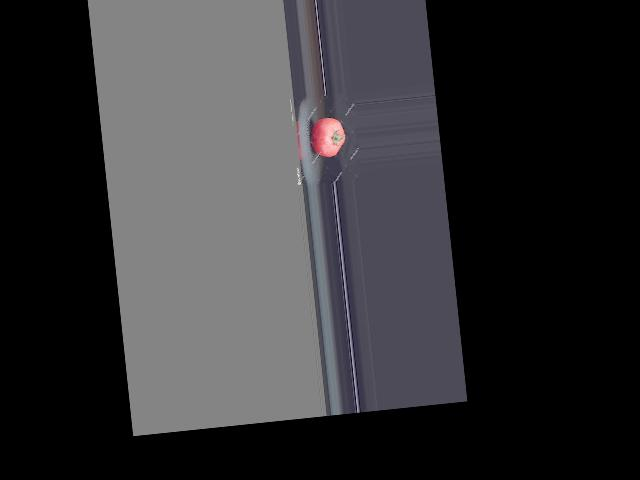tomato: (309, 115, 347, 158)
